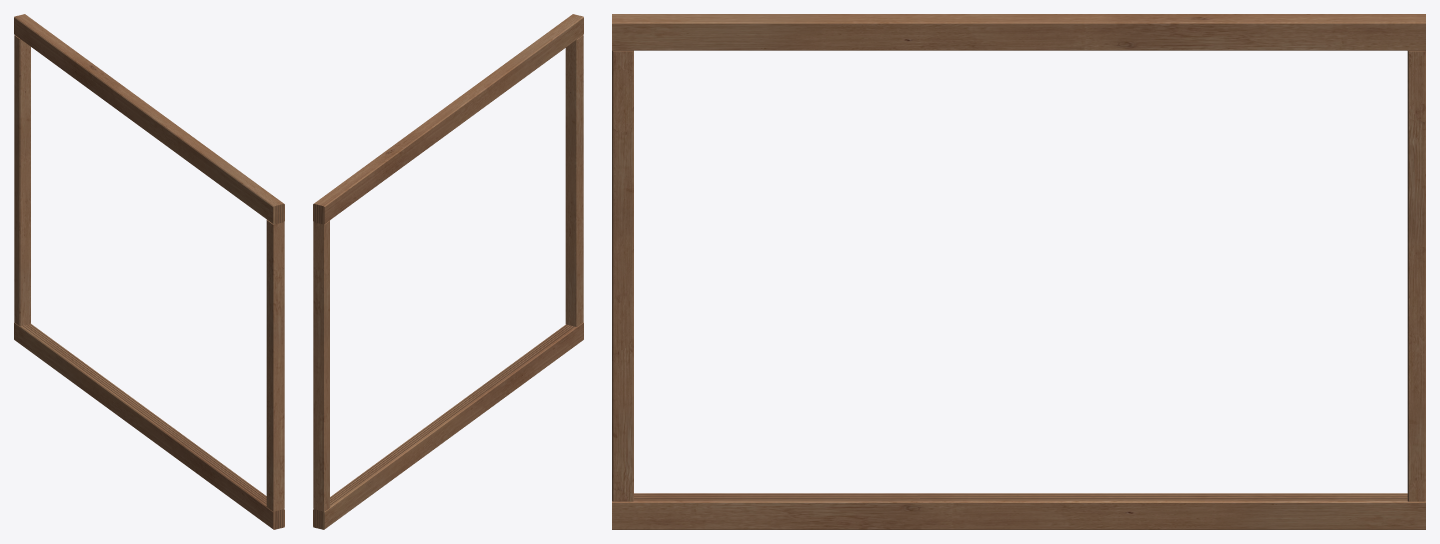
File: SM_Gyedong_Frame_03A.fbx
3 renders of one model, left to right at view 1: azimuth 30°, elevation 25°; view 2: azimuth 150°, elevation 25°; view 3: azimuth 270°, elevation 25°, orthographic. The views are drawn at different scales.
Visible parts, largest first — view 1: SM_Gyedong_Frame_03A; view 2: SM_Gyedong_Frame_03A; view 3: SM_Gyedong_Frame_03A.
Boxes of the visible parts, x1,y1,x2,y2 form: SM_Gyedong_Frame_03A: [14, 14, 284, 529]; SM_Gyedong_Frame_03A: [313, 14, 583, 529]; SM_Gyedong_Frame_03A: [612, 14, 1425, 529].
Size of the model in its own units: 8.27 by 218 by 317.
